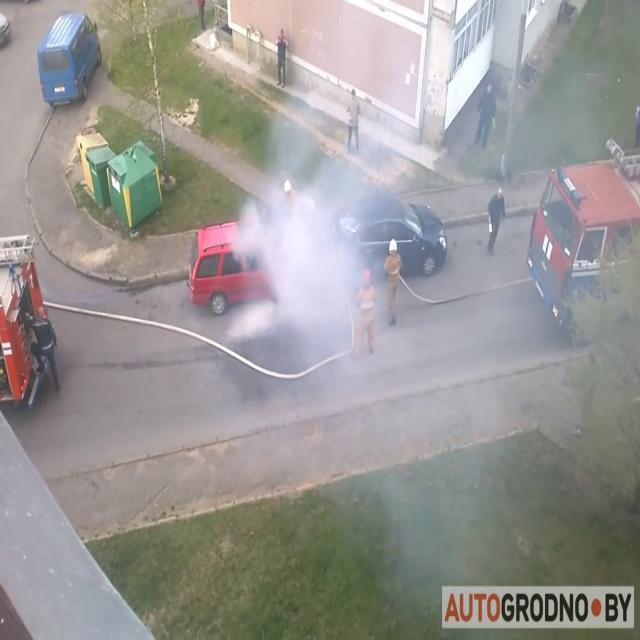Smoke: (226, 7, 411, 344)
